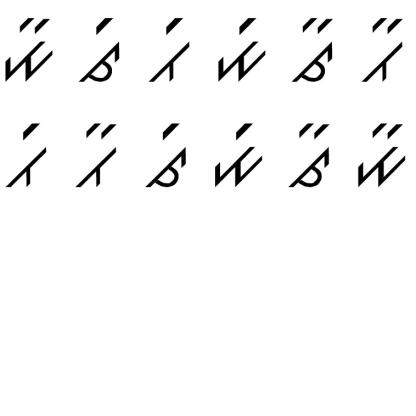ban: (72, 116, 120, 192), (358, 14, 406, 86)
bang: (143, 15, 195, 84), (5, 116, 49, 192)
can: (285, 117, 333, 197), (286, 14, 337, 89)
cang: (141, 119, 195, 191), (78, 15, 125, 84)
man: (2, 13, 63, 86), (347, 118, 408, 188)
mang: (205, 121, 266, 189), (213, 11, 268, 84)
